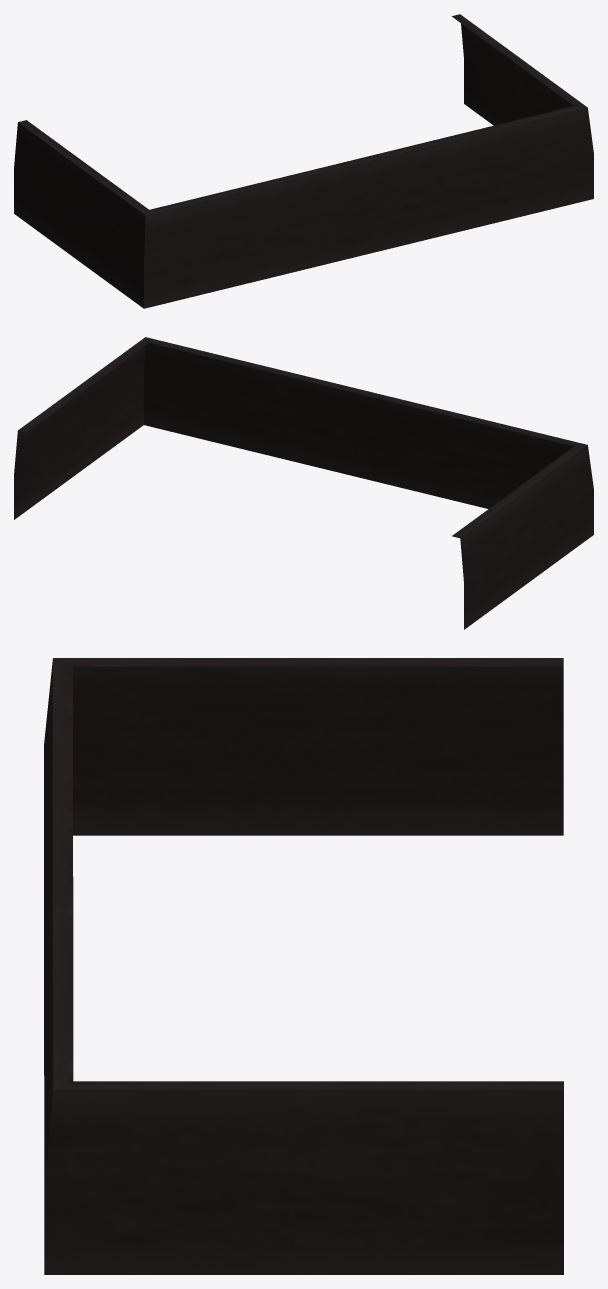
File: SkirtingColumnB.fbx
3 renders of one model, top to bottom at view 1: azimuth 30°, elevation 25°; view 2: azimuth 150°, elevation 25°; view 3: azimuth 270°, elevation 25°, orthographic. The views are drawn at different scales.
Visible parts, largest first — view 1: SkirtingColumnB; view 2: SkirtingColumnB; view 3: SkirtingColumnB.
Boxes of the visible parts, left/top/right/bottom form: SkirtingColumnB: left=14, top=14, right=593, bottom=308; SkirtingColumnB: left=14, top=337, right=593, bottom=629; SkirtingColumnB: left=44, top=658, right=563, bottom=1274.
Size of the model in its own units: 104 by 20 by 51.98.
